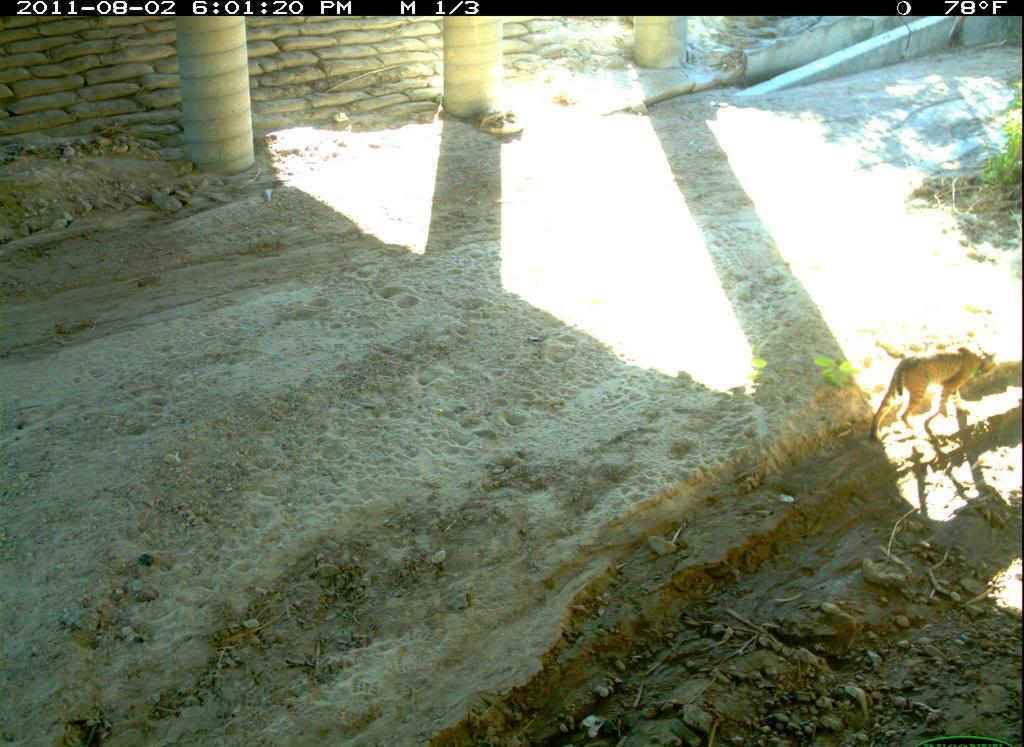bobcat: (867, 342, 1001, 445)
